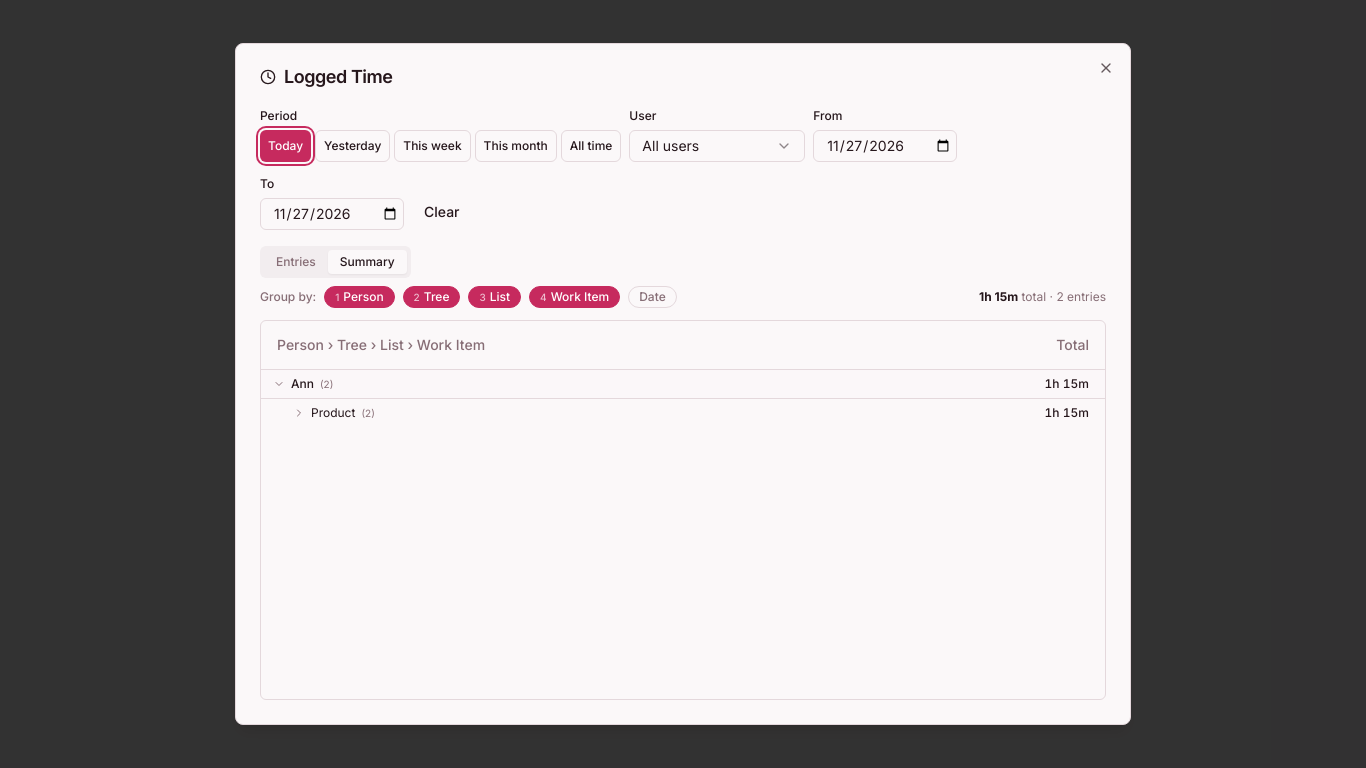
Scenario: following a total to what made it › opens the last level onto the entries themselves, with their notes
Click the text "Product": (333, 412) [311,404,355,420]
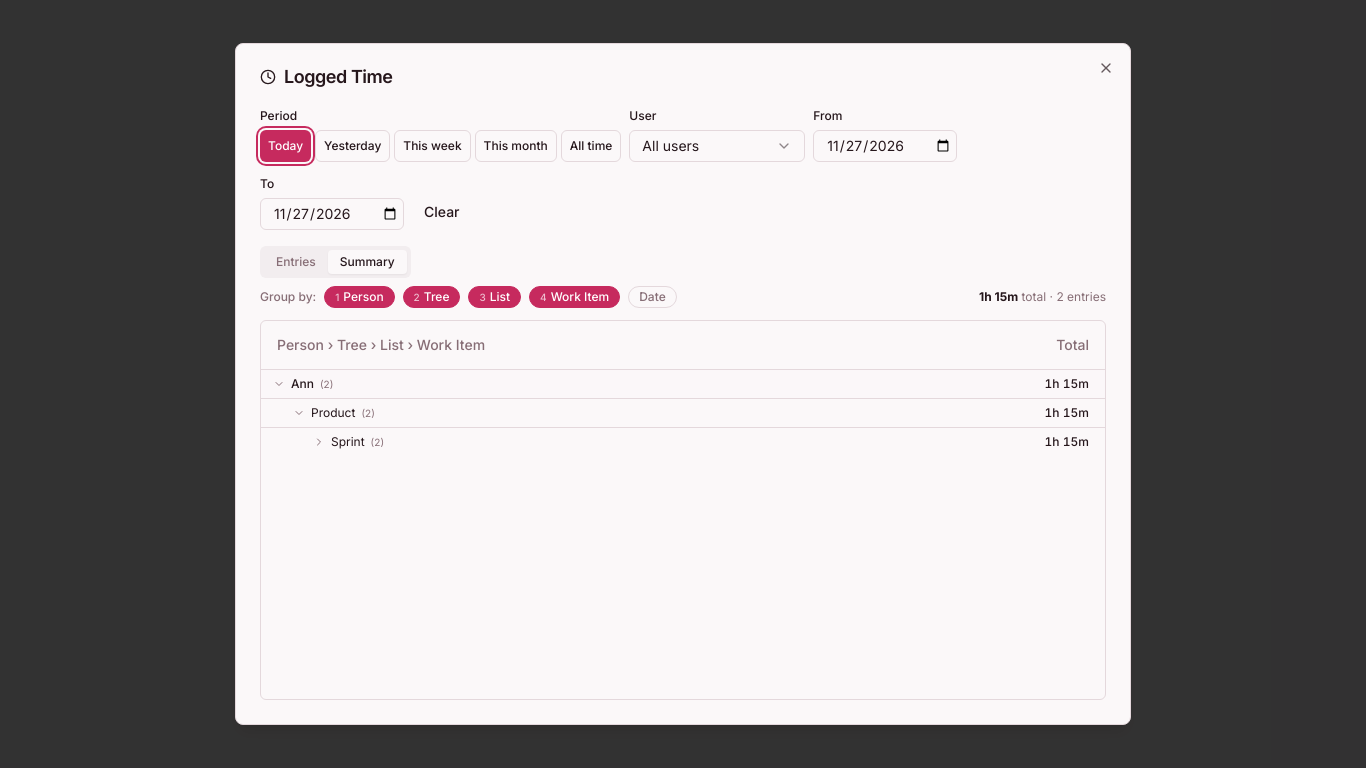
Click the text "Sprint": (348, 442) [331,434,365,450]
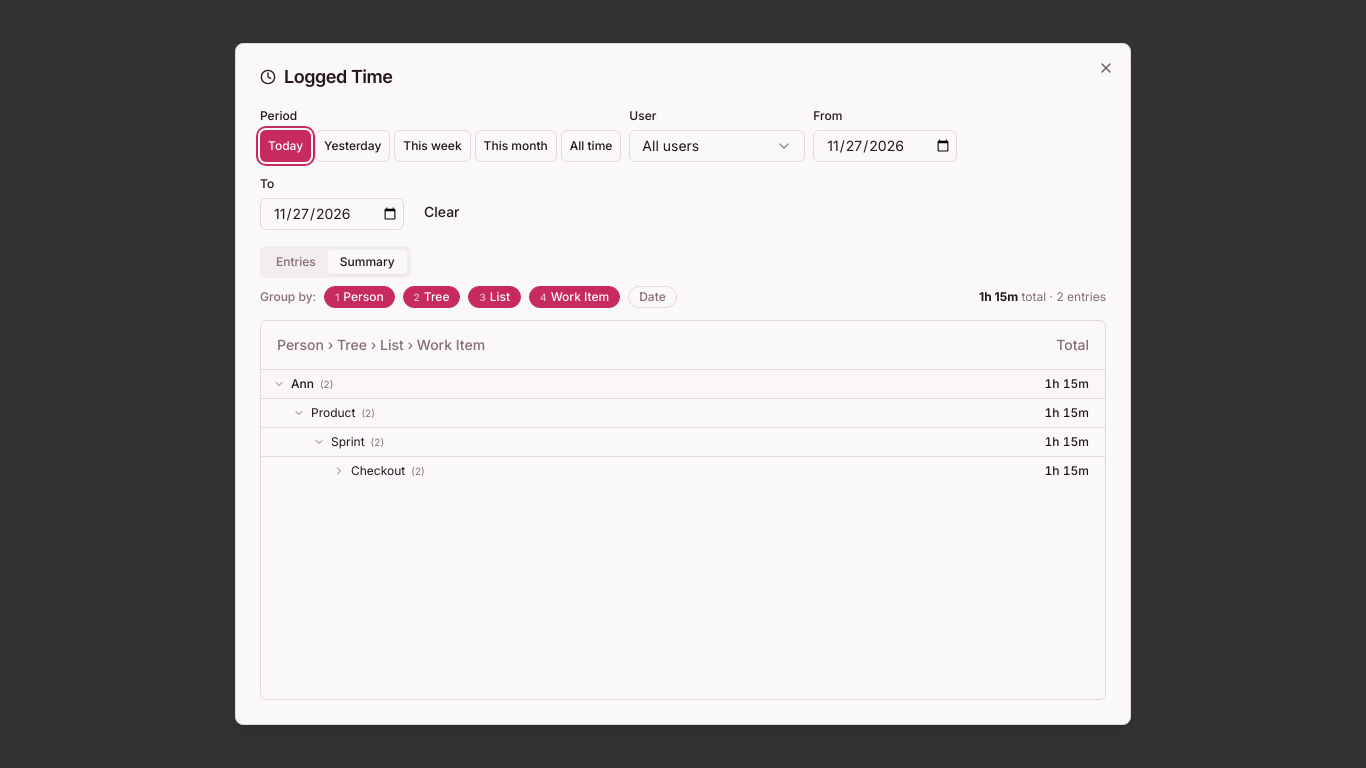
Click the text "Checkout": (378, 470) [351,462,405,478]
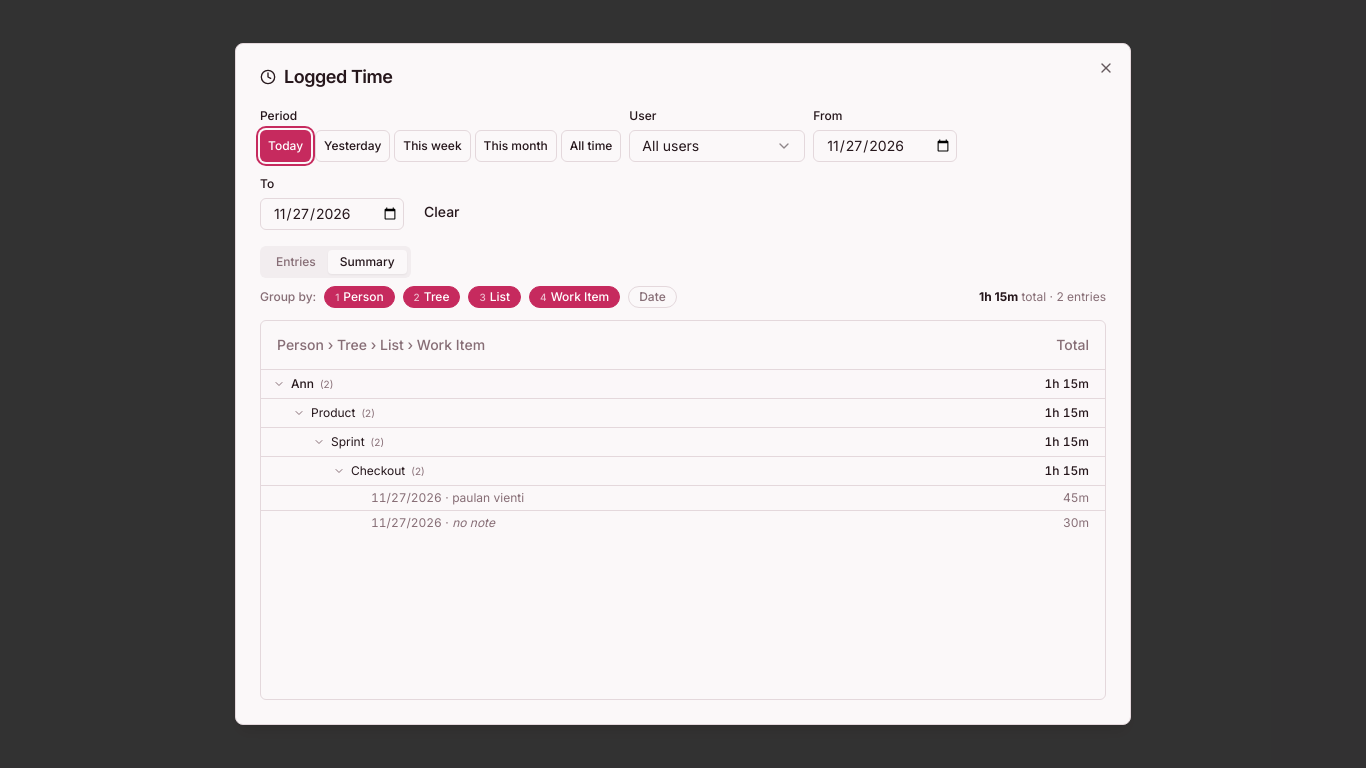
Now the text "paulan vienti" is shown, box [452,490,524,504]
Now the text "no note" is shown, box [452,514,495,530]
Now the text "45m" is shown, box [1009,485,1105,510]
